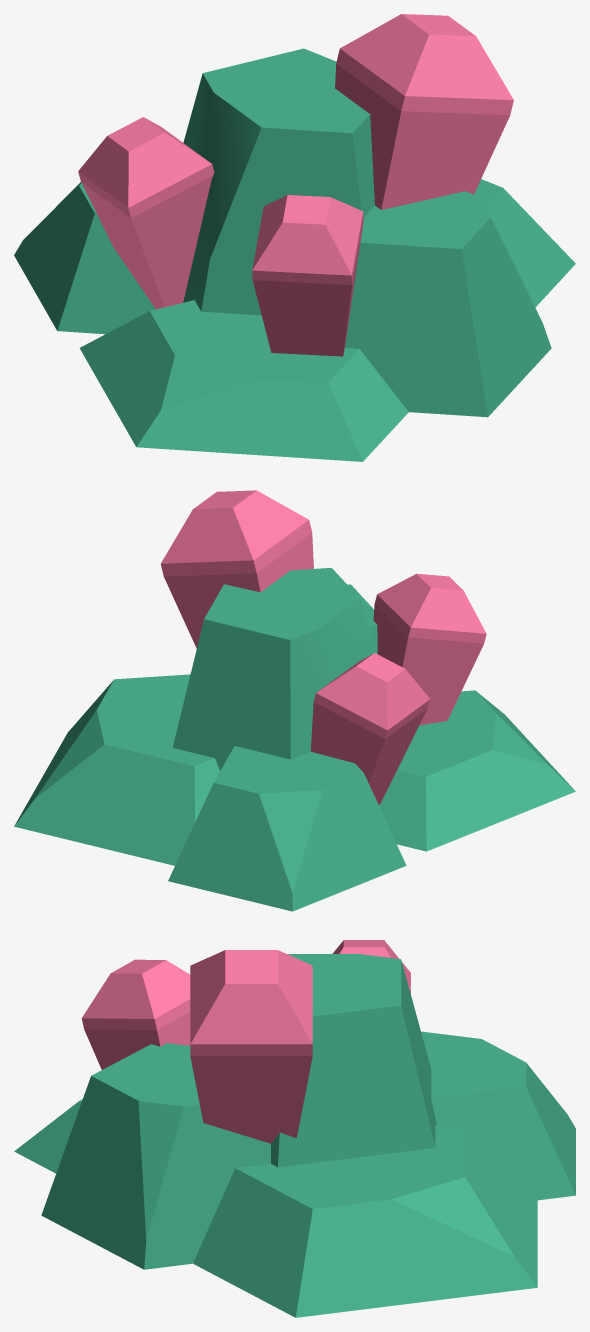
File: detail_crystalLarge.fbx
3 renders of one model, top to bottom at view 1: azimuth 30°, elevation 25°; view 2: azimuth 150°, elevation 25°; view 3: azimuth 270°, elevation 25°, orthographic. The views are drawn at different scales.
Visible parts, largest first — view 1: rocks, crystal (×3); view 2: rocks, crystal (×3); view 3: rocks, crystal (×3).
Boxes of the visible parts, x1,y1,x2,y2 form: rocks: [14, 48, 575, 461]; crystal (×3): [78, 14, 513, 356]; rocks: [14, 567, 575, 911]; crystal (×3): [161, 490, 486, 804]; rocks: [14, 954, 575, 1317]; crystal (×3): [81, 940, 410, 1143].
Size of the model in its own units: 10 by 5.56 by 10.
